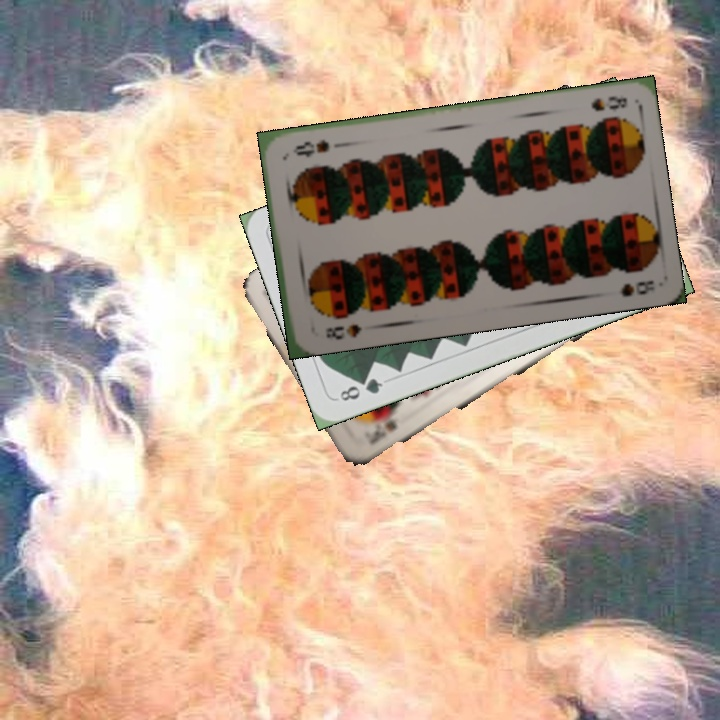G8: (335, 374, 386, 404)
S8: (587, 91, 630, 114), (321, 320, 364, 342)
SK: (367, 414, 400, 442)
